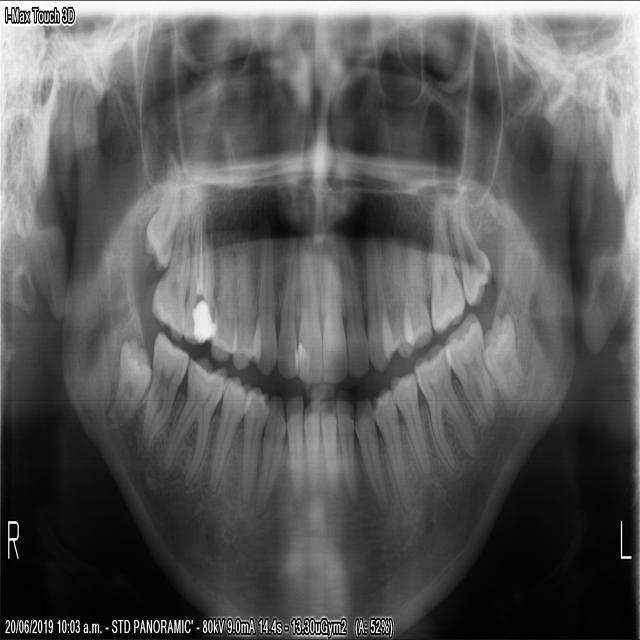LCD: (351, 393, 388, 517)
LCU: (362, 228, 393, 374)
LID: (332, 386, 354, 510), (317, 396, 336, 502)
LIU: (336, 228, 368, 377), (318, 229, 347, 384)
LMD: (410, 336, 474, 475), (441, 308, 493, 427), (479, 303, 522, 408)
LMU: (427, 194, 464, 333), (447, 193, 492, 306), (399, 230, 430, 347)
LPMD: (367, 379, 409, 514), (386, 367, 430, 479)
LPMU: (380, 238, 413, 363)
RCD: (252, 390, 286, 513)
RCU: (248, 224, 274, 379)
RID: (281, 390, 300, 508), (300, 391, 318, 509)
RIU: (292, 230, 320, 385), (273, 232, 297, 378)
RMD: (160, 350, 228, 486), (136, 326, 189, 451), (103, 328, 150, 428)
RMU: (177, 203, 218, 346), (146, 213, 188, 340), (138, 150, 180, 269)
RPMD: (205, 373, 254, 491), (236, 382, 270, 510)
RPMU: (228, 226, 260, 372), (206, 228, 236, 363)
